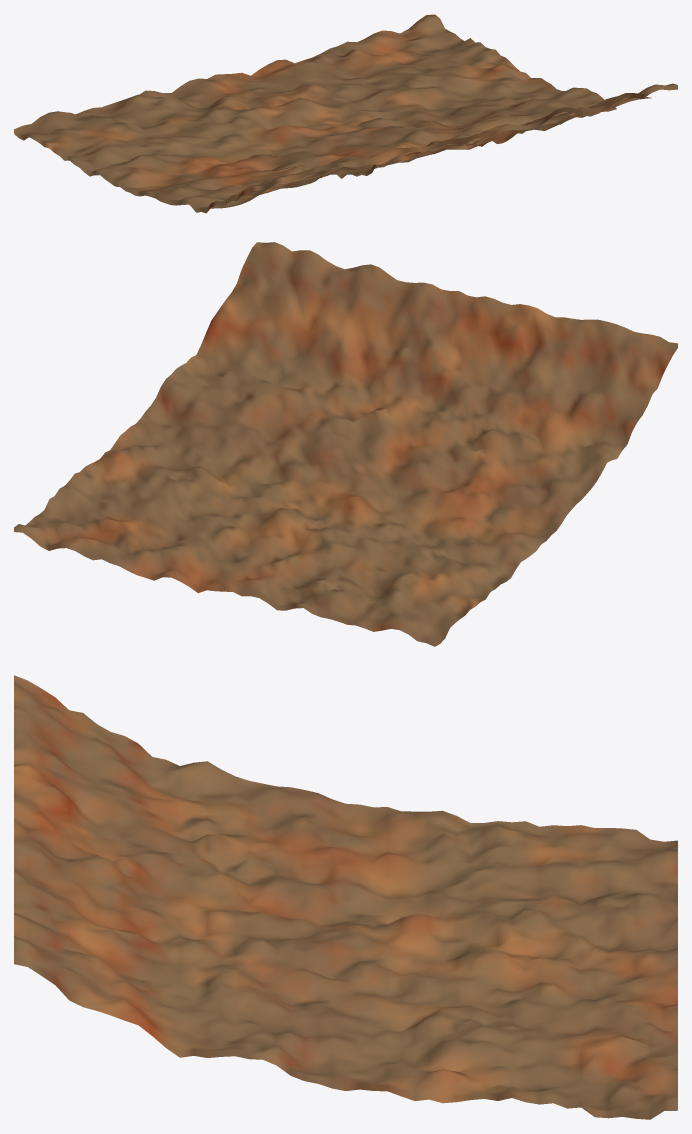
The model's file is terrain-142.glb.
3 renders of one model, top to bottom at view 1: azimuth 30°, elevation 25°; view 2: azimuth 150°, elevation 25°; view 3: azimuth 270°, elevation 25°, orthographic. The views are drawn at different scales.
Parts seen in each view (by area): view 1: terrain-142; view 2: terrain-142; view 3: terrain-142.
Boxes of the visible parts, x1,y1,x2,y2 form: terrain-142: (14, 14, 677, 213); terrain-142: (14, 242, 677, 646); terrain-142: (14, 675, 677, 1119).
Size of the model in its own units: 384 by 117 by 384.
